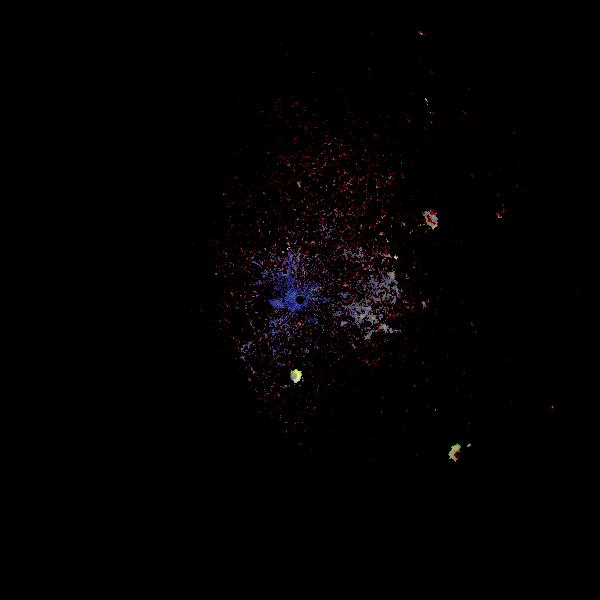roost: (447, 442, 477, 472), (419, 208, 443, 232), (282, 366, 303, 387)
